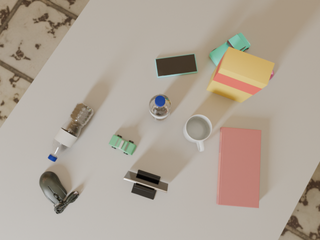book: (217, 127, 261, 208)
bottle: (48, 102, 93, 162), (149, 94, 171, 122)
box: (207, 47, 274, 103)
cup: (183, 115, 212, 151)
mouse: (39, 172, 79, 214)
phone: (155, 54, 198, 78), (124, 171, 168, 193)
toy_car: (209, 33, 250, 66), (109, 135, 136, 155)
